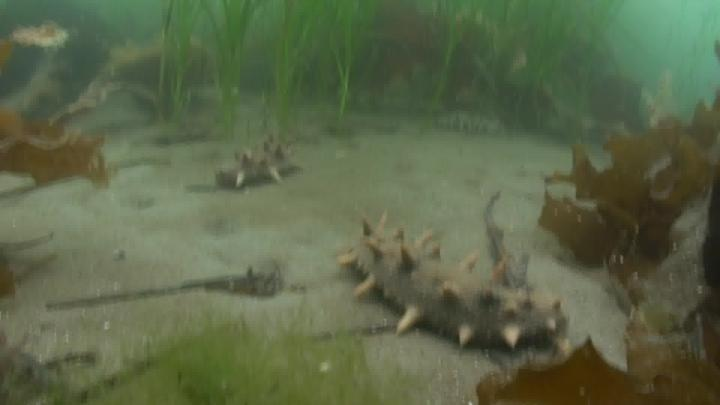holothurian: (342, 211, 571, 354), (218, 136, 304, 192), (443, 112, 505, 134)
